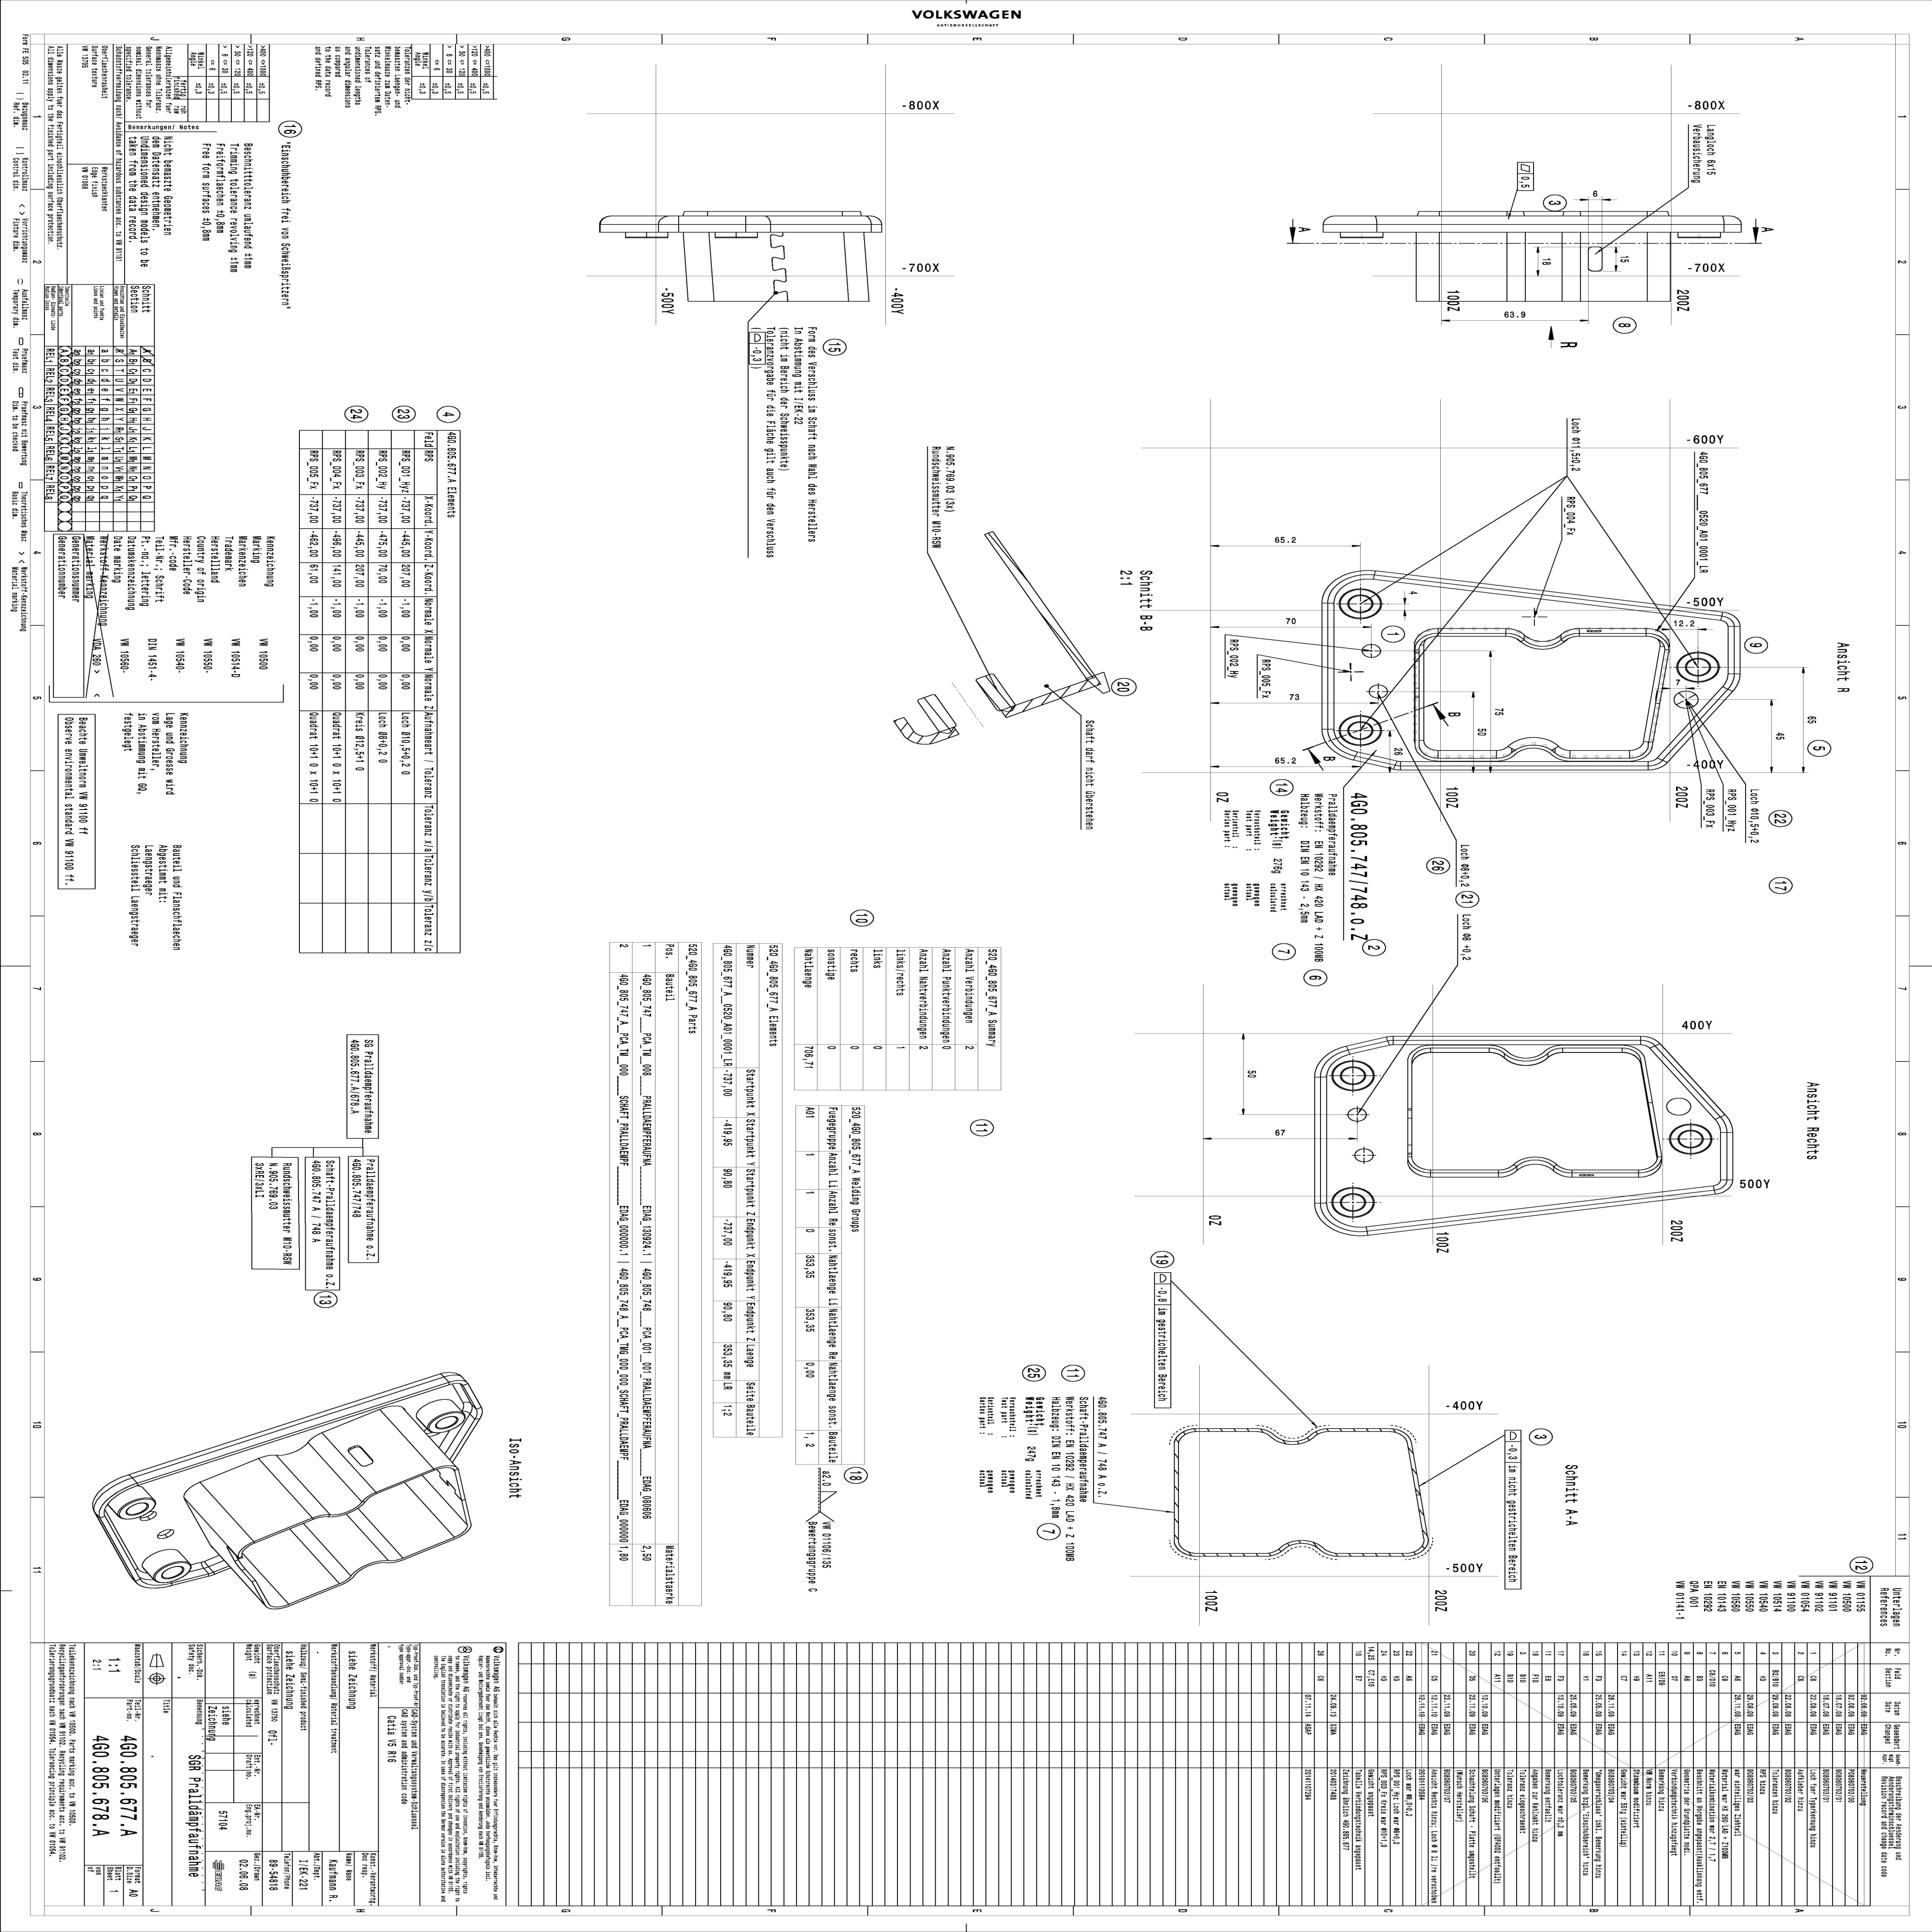InnerContour: (345, 1437, 379, 1472), (1672, 688, 1698, 711), (1665, 1095, 1693, 1116), (1585, 244, 1605, 274), (1346, 1104, 1368, 1125), (1352, 1145, 1375, 1164), (1366, 681, 1389, 701), (1361, 642, 1382, 660), (154, 1525, 175, 1541)
ThroughHole: (1329, 1184, 1376, 1219), (1667, 1122, 1714, 1157), (1675, 648, 1720, 683), (1338, 713, 1384, 747), (1338, 587, 1384, 619), (1330, 1060, 1375, 1092)
ThroughHoleExternal: (1675, 228, 1725, 241), (1338, 228, 1385, 239), (623, 232, 671, 241), (713, 234, 761, 241)
